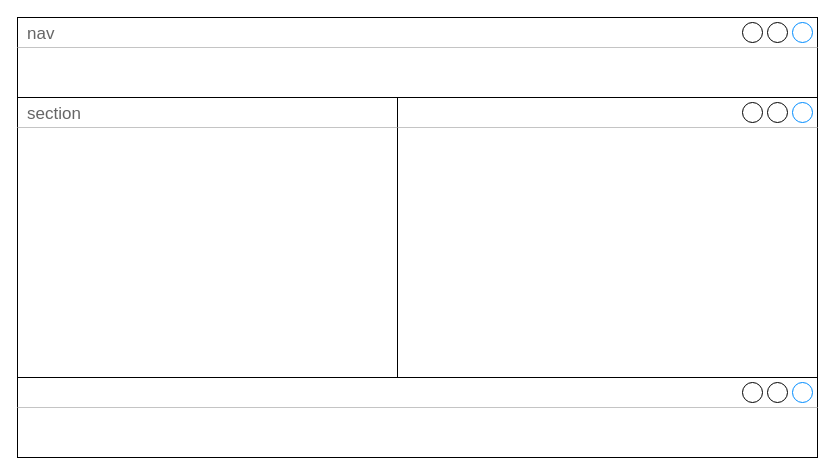
Some shapes in this 835 by 475 pixel diagram are drawn without their labels. The shapes that lost their labels are listed below. From the top down, each one's centre as x and y in pixels, then its label:
At point (607, 237): "aside".
At point (417, 417): "footer".
